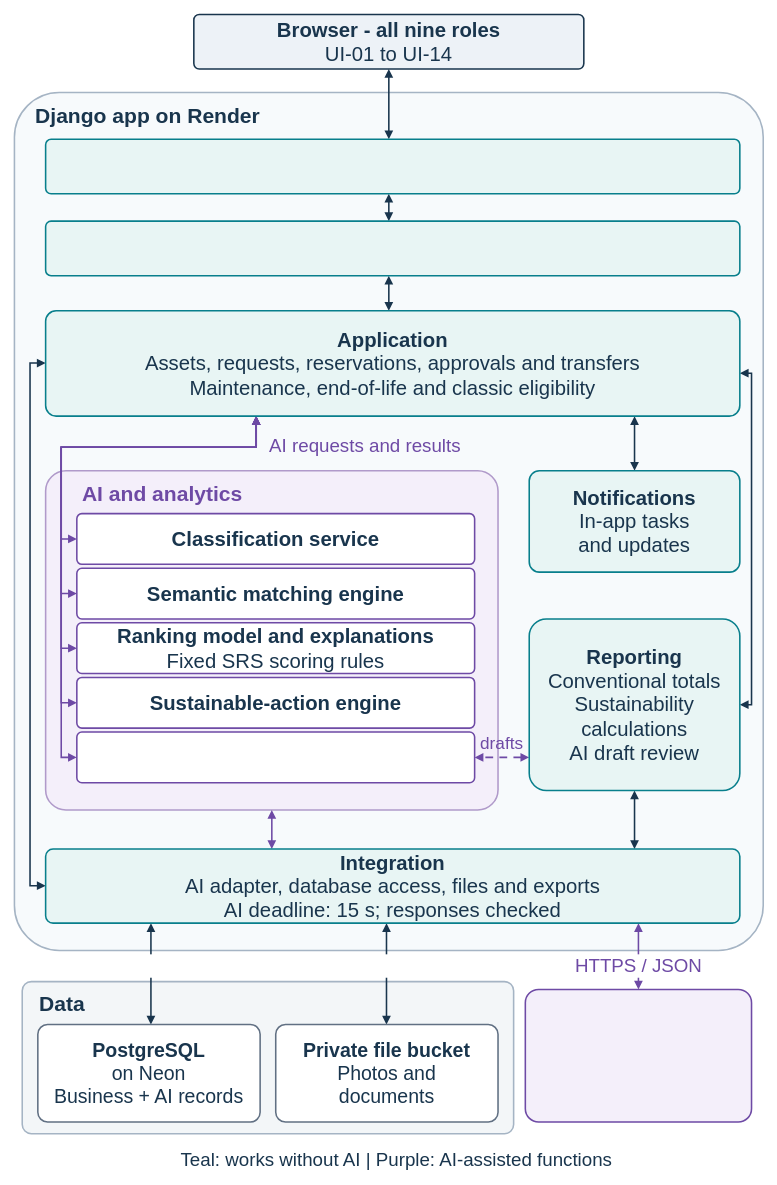
Some shapes in this 777 by 1185 pixel diagram are drawn without their labels. The box of each missing label's shape, as (x1, y1, x2, y2) in pixels:
AI Provider gpt-4.1-mini- 2025-04-14 text-embedding- 3-small: (524, 988, 752, 1122)
Assistant and report drafts: (76, 731, 475, 783)
HTTPS: (334, 954, 438, 977)
Presentation Django pages and forms: (44, 138, 740, 194)
Security Sign-in, role and department checks, audit: (44, 220, 740, 276)
SQL / TLS: (84, 954, 217, 977)
